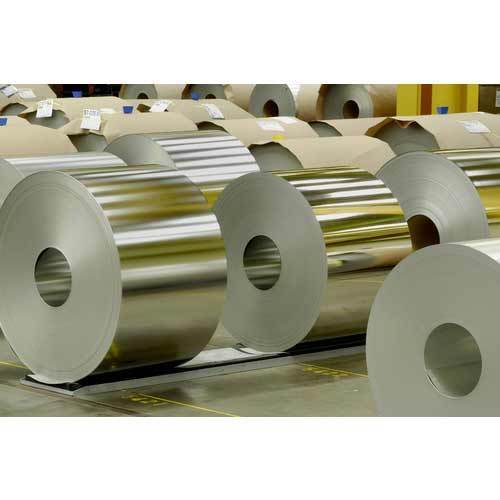steel-coil: (11, 152, 222, 381), (11, 164, 228, 381), (224, 173, 416, 360), (352, 253, 499, 408), (380, 253, 499, 408), (386, 140, 499, 245)
